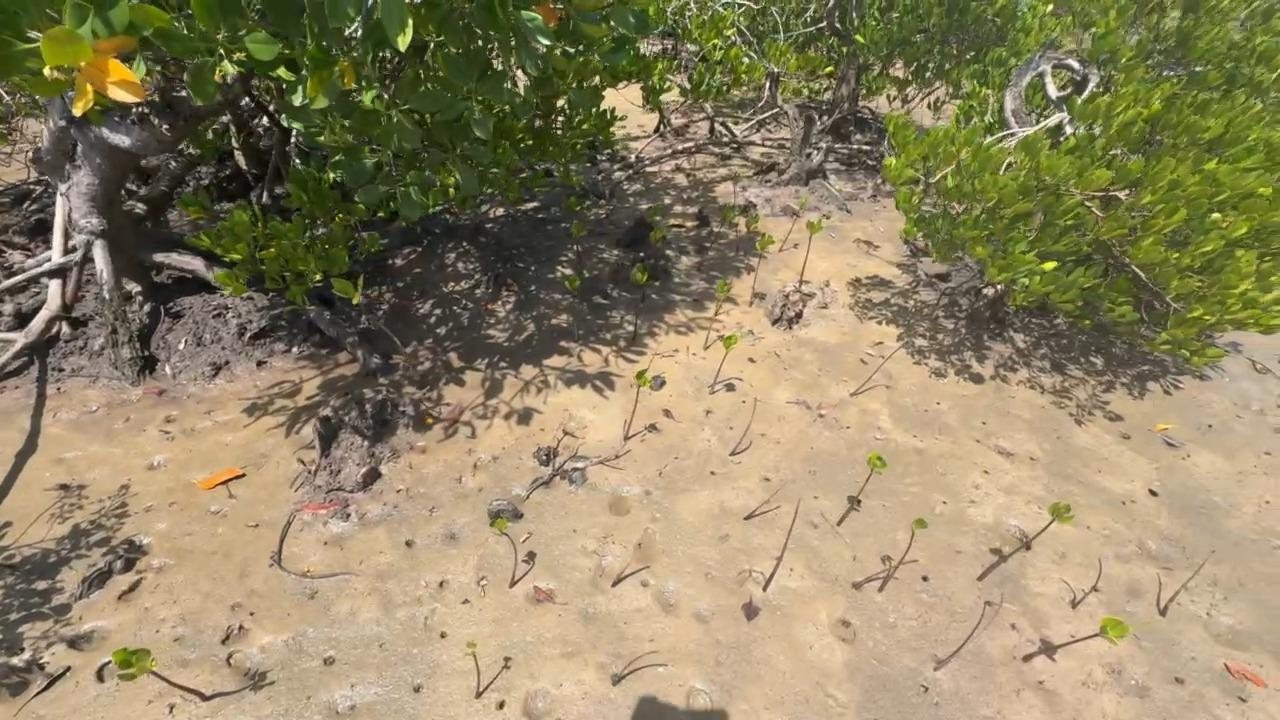Tree: (933, 589, 1004, 671), (112, 648, 209, 702), (1023, 617, 1133, 662), (1007, 501, 1075, 557), (1161, 550, 1216, 618), (762, 499, 800, 593), (881, 518, 929, 592), (849, 341, 910, 397), (701, 279, 733, 350), (748, 232, 776, 308), (623, 367, 650, 440), (854, 559, 919, 588), (705, 203, 741, 255), (778, 193, 809, 253), (798, 218, 824, 288), (493, 518, 518, 589), (709, 334, 738, 395), (854, 452, 888, 503), (613, 650, 659, 686), (729, 397, 757, 456), (1072, 557, 1102, 609), (743, 485, 785, 520), (564, 273, 581, 343), (570, 220, 589, 274), (465, 640, 481, 699), (629, 262, 648, 304), (649, 216, 667, 253), (610, 563, 629, 588), (732, 171, 742, 209), (745, 213, 760, 236), (630, 307, 639, 340)
